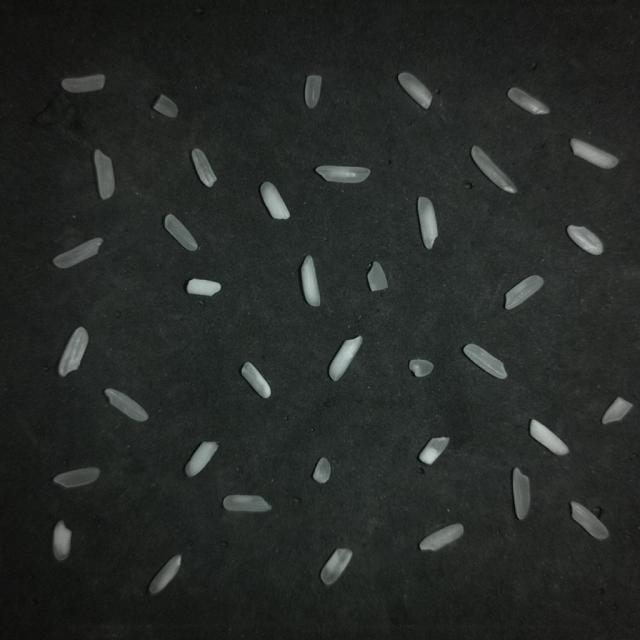broken: (368, 262, 388, 291), (153, 95, 178, 118), (305, 75, 321, 108), (313, 457, 331, 483), (409, 359, 433, 377)
chalky: (329, 336, 362, 381), (570, 139, 618, 169), (530, 420, 568, 455), (398, 72, 432, 109), (149, 555, 181, 594), (420, 524, 463, 551), (185, 442, 218, 476), (321, 549, 352, 585), (260, 182, 289, 219), (418, 197, 438, 249), (301, 255, 320, 306), (419, 437, 449, 464), (52, 521, 71, 561), (187, 279, 221, 296)
foreign: (602, 397, 633, 424)
whole: (472, 146, 516, 193), (54, 238, 103, 268), (464, 344, 506, 379), (59, 327, 88, 376), (104, 389, 148, 421), (571, 502, 608, 539), (505, 275, 543, 309), (165, 215, 198, 251), (507, 88, 549, 114), (242, 362, 271, 398), (567, 225, 603, 254), (94, 150, 114, 199), (54, 467, 99, 488), (315, 166, 370, 183), (192, 149, 216, 187), (512, 468, 529, 519), (224, 495, 271, 512), (62, 74, 104, 93)
